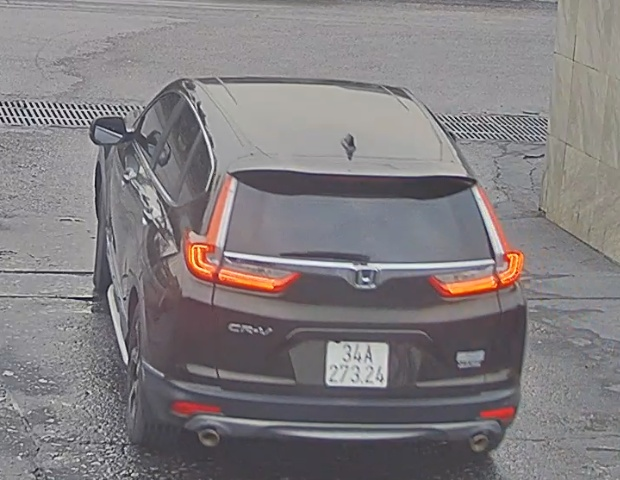vehicle plate: (323, 334, 391, 390)
